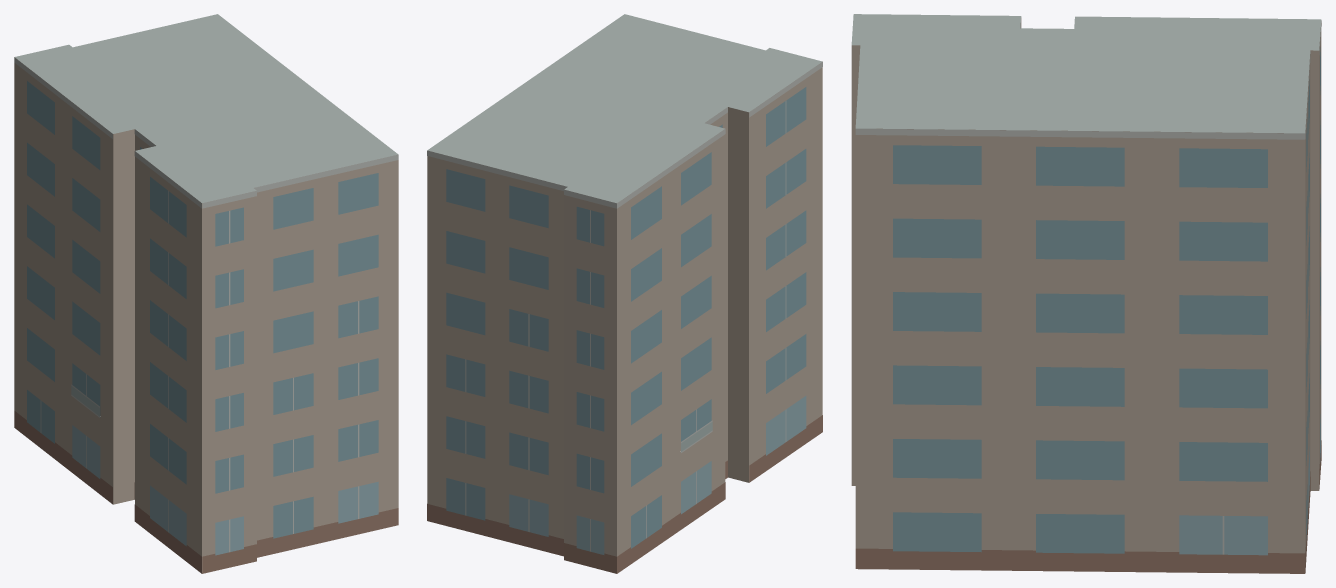
Rendered from survey-upis-32928788.glb.
3 views of the same model, side by side, from view 1: azimuth 30°, elevation 25°; view 2: azimuth 150°, elevation 25°; view 3: azimuth 270°, elevation 25° (orthographic). The views are drawn at different scales.
Parts seen in each view (by area): view 1: survey-upis-32928788.tmp; view 2: survey-upis-32928788.tmp; view 3: survey-upis-32928788.tmp.
Boxes of the visible parts, <box> form: survey-upis-32928788.tmp: <box>14,14,398,573</box>; survey-upis-32928788.tmp: <box>427,14,822,573</box>; survey-upis-32928788.tmp: <box>851,14,1321,573</box>.
Size of the model in its own units: 9.71 by 16.7 by 16.15.
